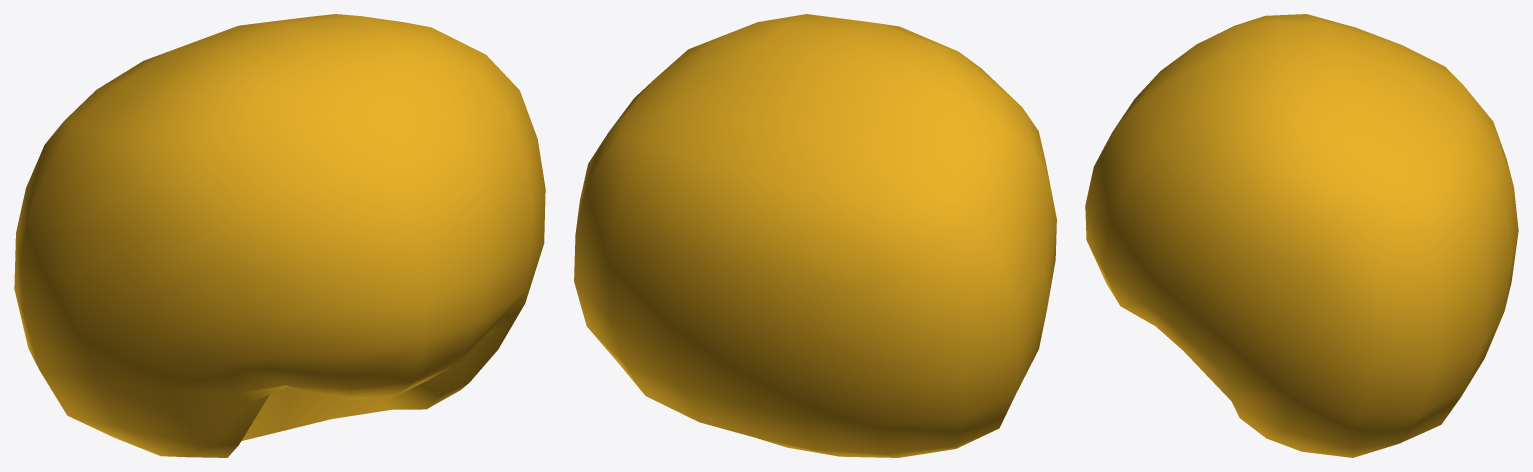
Rendered from Disco_Hairs_04.fbx.
The picture shows the model from 3 angles, left to right: view 1: azimuth 30°, elevation 25°; view 2: azimuth 150°, elevation 25°; view 3: azimuth 270°, elevation 25°; orthographic projection. The views are drawn at different scales.
Parts seen in each view (by area): view 1: Disco_Hairs_04; view 2: Disco_Hairs_04; view 3: Disco_Hairs_04.
Boxes of the visible parts, x1,y1,x2,y2 form: Disco_Hairs_04: (14,14,545,457); Disco_Hairs_04: (574,14,1056,457); Disco_Hairs_04: (1085,14,1518,457).
Bounding box in the file's own units: 117 × 96.92 × 103.
